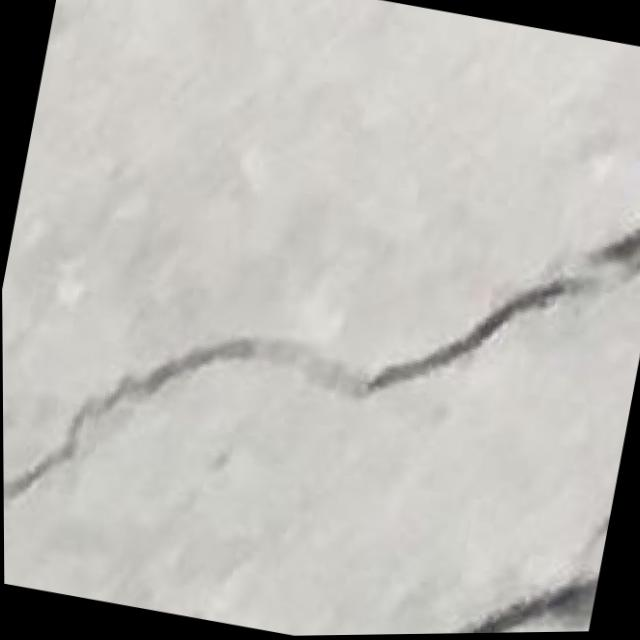Crack: (1, 102, 640, 640)
